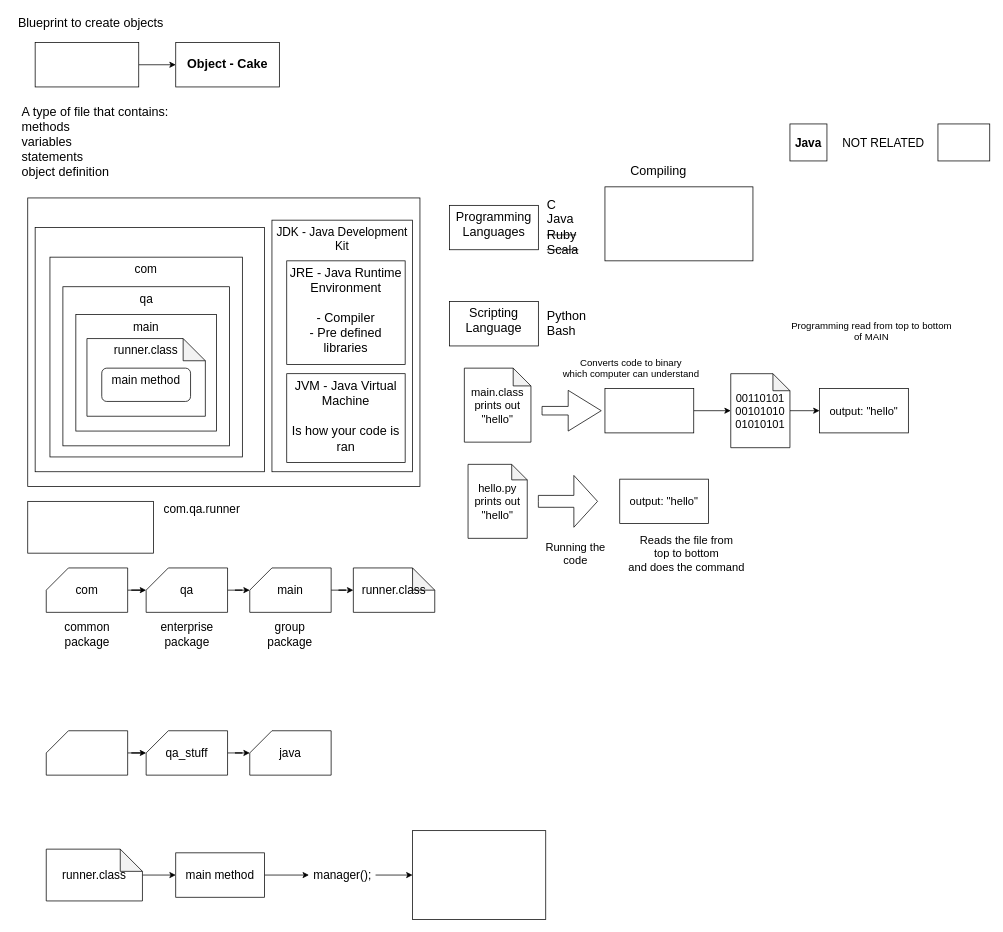
The diagram is 1003 pixels wide and 932 high, and some of its shapes have lost their labels. The box of each missing label's shape, as (x1, y1, x2, y2) in pixels:
Before code is understood by computer, must be compiled in a readable format: (604, 186, 753, 261)
Class - CakeTin: (34, 42, 139, 87)
compiler: (604, 388, 694, 433)
documents: (46, 730, 128, 775)
DOES EVERYTHING: (412, 830, 546, 919)
Java project: (27, 197, 420, 487)
Java Script: (937, 123, 990, 161)
package - a file directory, a location that contains classes: (27, 501, 154, 553)
src - contains all of your code: (34, 227, 265, 472)
